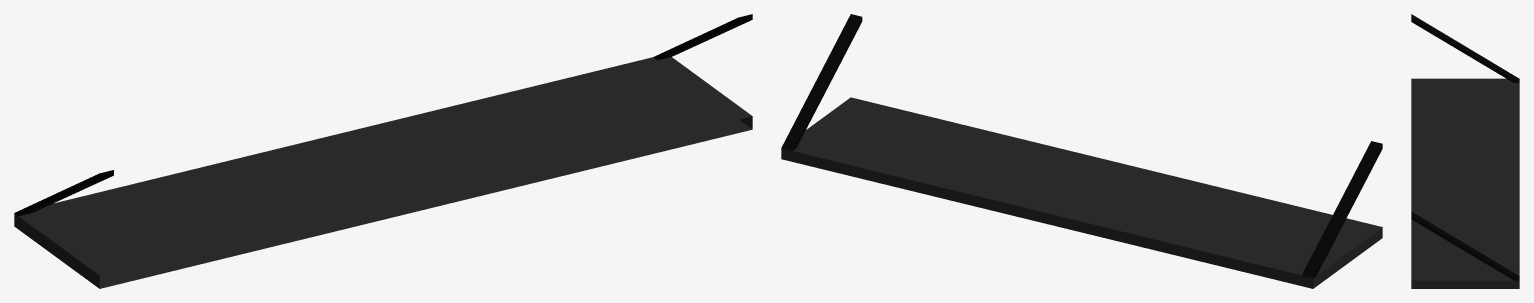
Rendered from 85abcb42-9e94-4c08-a7c8-85fff117e7e6.glb.
3 renders of one model, left to right at view 1: azimuth 30°, elevation 25°; view 2: azimuth 150°, elevation 25°; view 3: azimuth 270°, elevation 25°, orthographic. The views are drawn at different scales.
Visible parts, largest first — view 1: ArtShelf.007; view 2: ArtShelf.007; view 3: ArtShelf.007.
Boxes of the visible parts, x1,y1,x2,y2 form: ArtShelf.007: (14,14,752,288); ArtShelf.007: (781,14,1382,288); ArtShelf.007: (1411,14,1519,288).
Size of what is drawn, in the model's own units: 1.36 by 0.2301 by 0.3084.
1 material, 1 textured.
